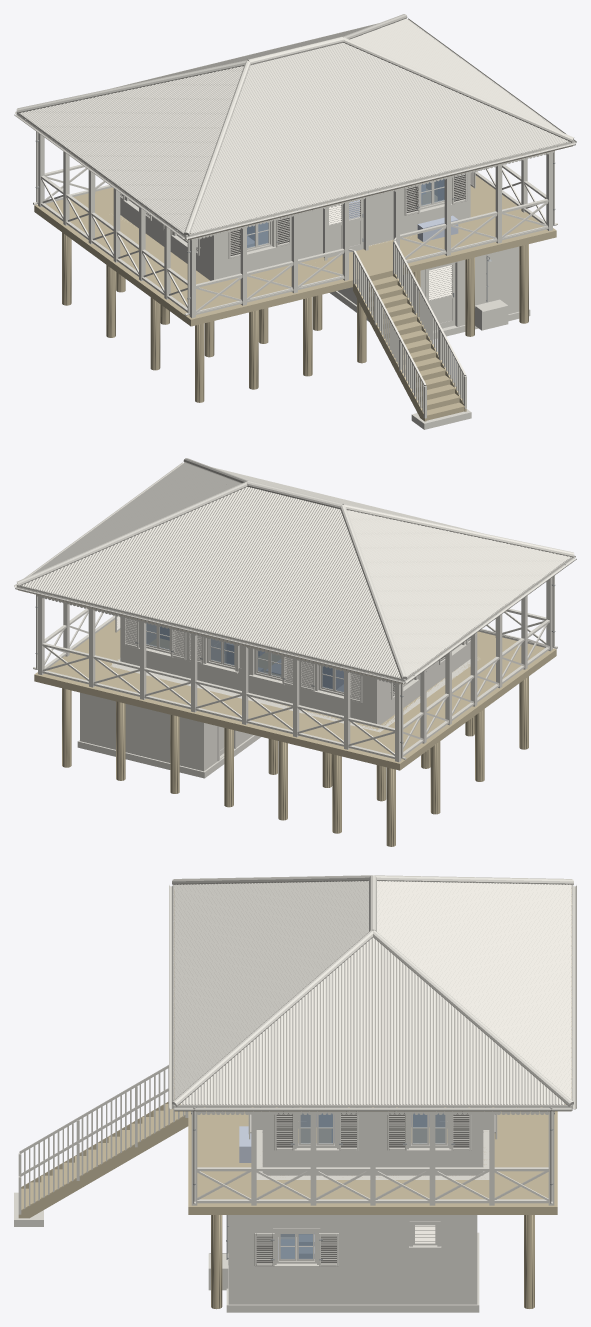
Rendered from paletuviers_h01.glb.
The picture shows the model from 3 angles, top to bottom: view 1: azimuth 30°, elevation 25°; view 2: azimuth 150°, elevation 25°; view 3: azimuth 270°, elevation 25°; orthographic projection. The views are drawn at different scales.
Parts seen in each view (by area): view 1: new_roof_sheet_verdigris, Deck_Slab, Veranda_Posts, OG_Core_Walls, corrugated_rust, Annex_Walls, Stilts, paint_clean, shutter_paint, Veranda_Railing_Front_Repair, DoorLeaf_06_R_in, Annex_Foundation (+4 smaller); view 2: new_roof_sheet_verdigris, Deck_Slab, Veranda_Posts, OG_Core_Walls, Annex_Walls, corrugated_rust, Stilts, paint_clean, shutter_paint, glass, Annex_Foundation; view 3: new_roof_sheet_verdigris, Deck_Slab, Veranda_Posts, Annex_Walls, OG_Core_Walls, corrugated_rust, shutter_paint, paint_clean, Annex_Foundation, glass, Stilts.
Part boxes in pixels (box(x1,y1,x2,y2)): new_roof_sheet_verdigris: box(20, 18, 568, 233); Deck_Slab: box(29, 122, 572, 421); Veranda_Posts: box(16, 18, 574, 418); OG_Core_Walls: box(120, 172, 470, 280); corrugated_rust: box(16, 14, 573, 236); Annex_Walls: box(338, 246, 519, 326); Stilts: box(64, 234, 528, 402); paint_clean: box(14, 18, 576, 315); shutter_paint: box(120, 171, 475, 258); Veranda_Railing_Front_Repair: box(196, 199, 548, 312); DoorLeaf_06_R_in: box(428, 263, 455, 330); Annex_Foundation: box(329, 291, 530, 429); new_roof_sheet_verdigris: box(22, 463, 570, 677); Deck_Slab: box(18, 566, 561, 846); Veranda_Posts: box(16, 462, 574, 762); OG_Core_Walls: box(110, 616, 479, 732); Annex_Walls: box(80, 692, 253, 771); corrugated_rust: box(17, 458, 574, 680); Stilts: box(62, 678, 526, 846); paint_clean: box(14, 462, 576, 759); shutter_paint: box(115, 615, 470, 702); glass: box(146, 623, 343, 692); Annex_Foundation: box(77, 735, 260, 778); new_roof_sheet_verdigris: box(174, 881, 571, 1104); Deck_Slab: box(18, 888, 572, 1309); Veranda_Posts: box(18, 884, 572, 1267); Annex_Walls: box(228, 1215, 477, 1304); OG_Core_Walls: box(256, 1111, 489, 1179); corrugated_rust: box(172, 875, 573, 1106); shutter_paint: box(248, 1111, 497, 1266); paint_clean: box(169, 885, 576, 1205); Annex_Foundation: box(14, 1192, 479, 1312); glass: box(280, 1113, 445, 1258); Stilts: box(211, 1215, 534, 1308).
Size of the model in its own units: 13.37 by 8.56 by 14.04.
